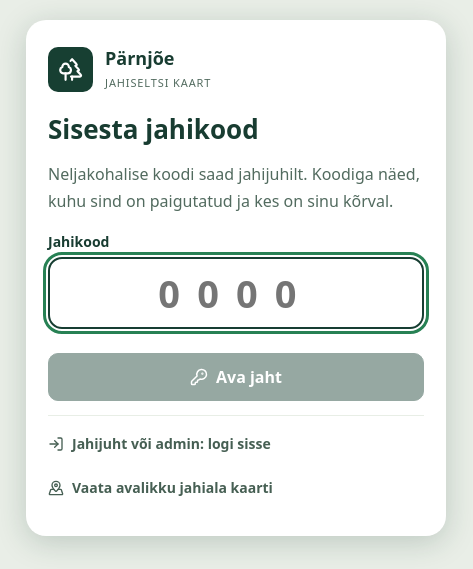
Scenario: CodeGate › keeps only digits, at most four, and stays disabled until the code is complete
The image size is (473, 569).
In the field labelled "Jahikood": (236, 293) [48,257,424,329], type "1a2"
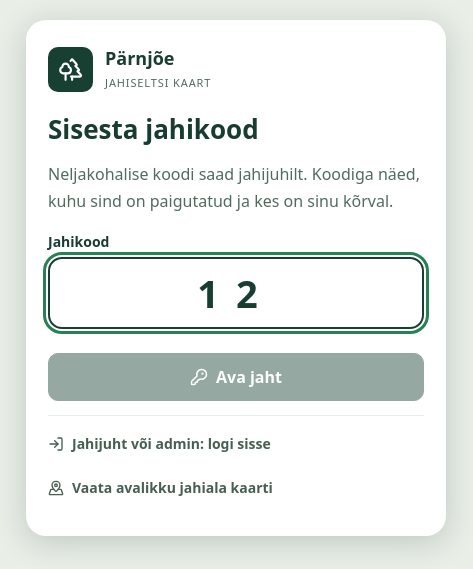
Expected: the button "Ava jaht" is disabled, [48,353,424,401]
Expected: the field labelled "Jahikood" holds "12", [48,257,424,329]
